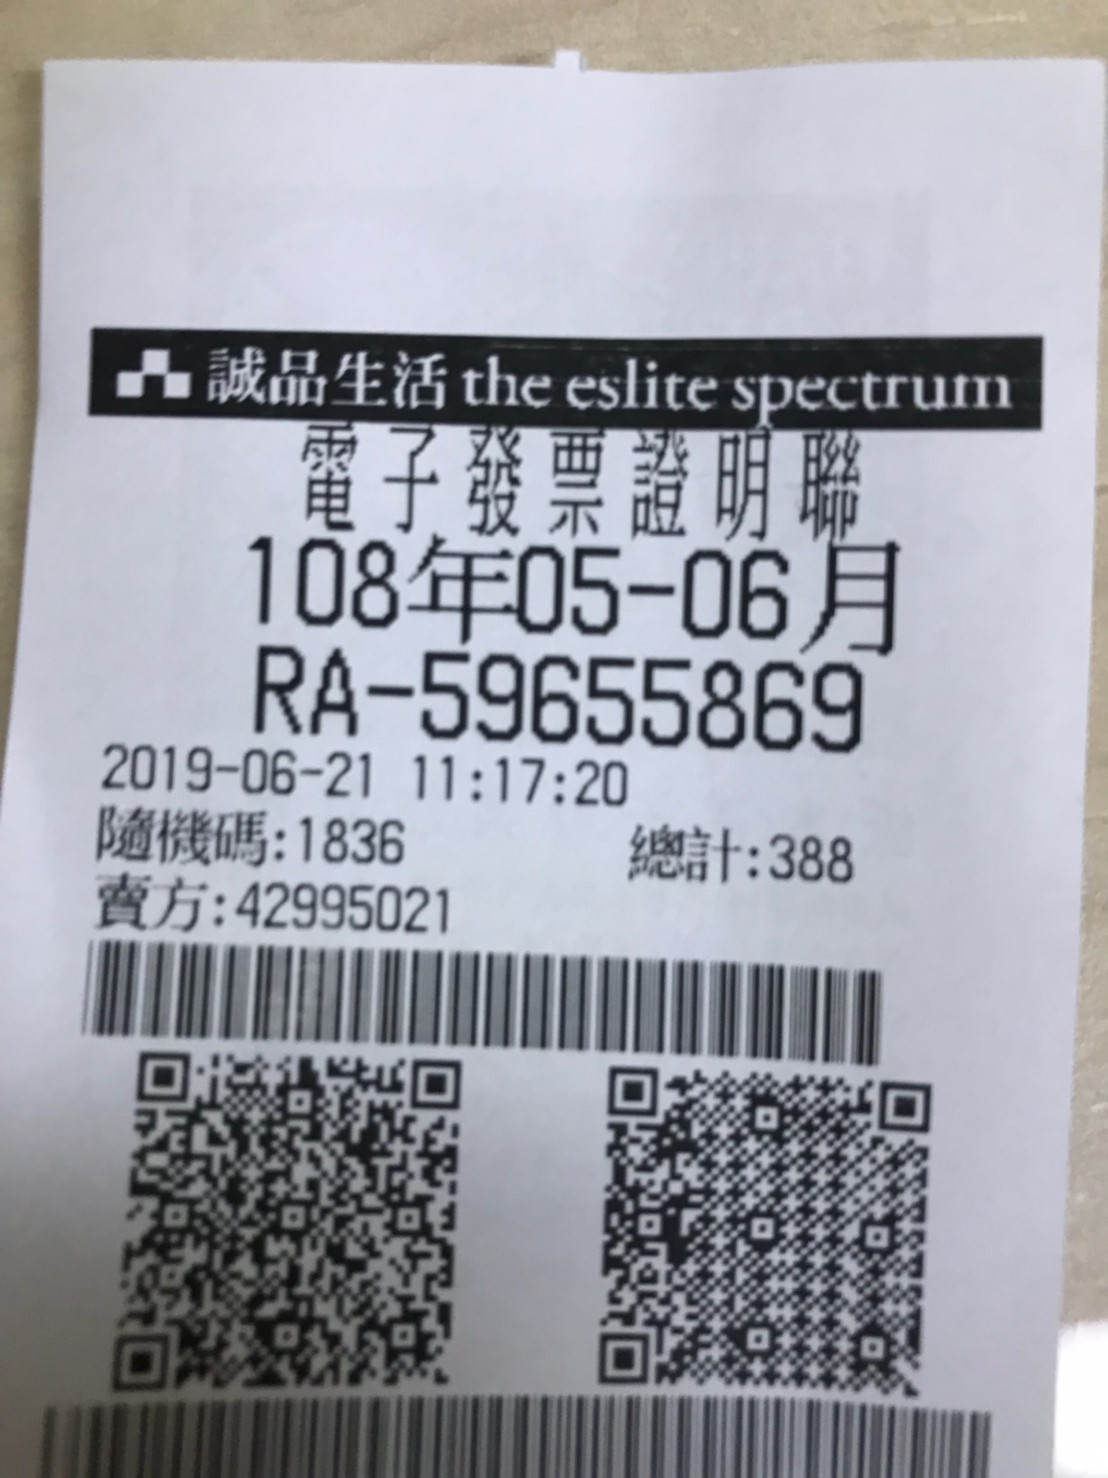Date_New: (248, 527, 904, 660)
Number_New: (411, 644, 871, 760)
